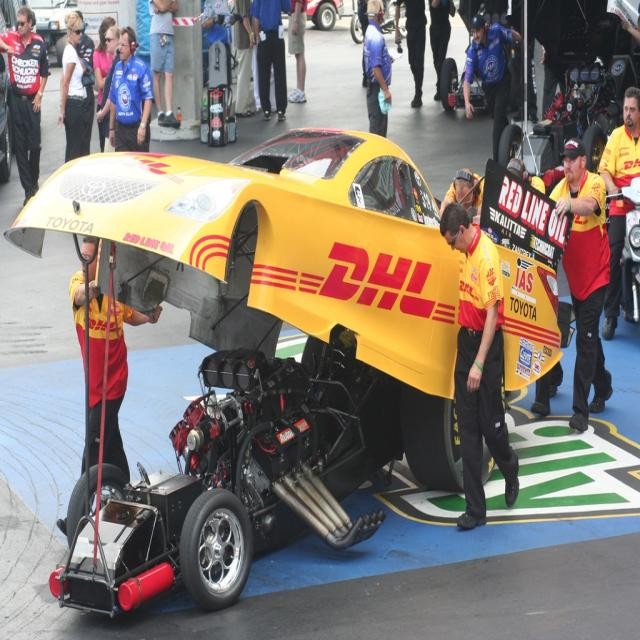dhl: (300, 237, 459, 331), (85, 313, 123, 336), (460, 278, 482, 304), (619, 157, 640, 175)
